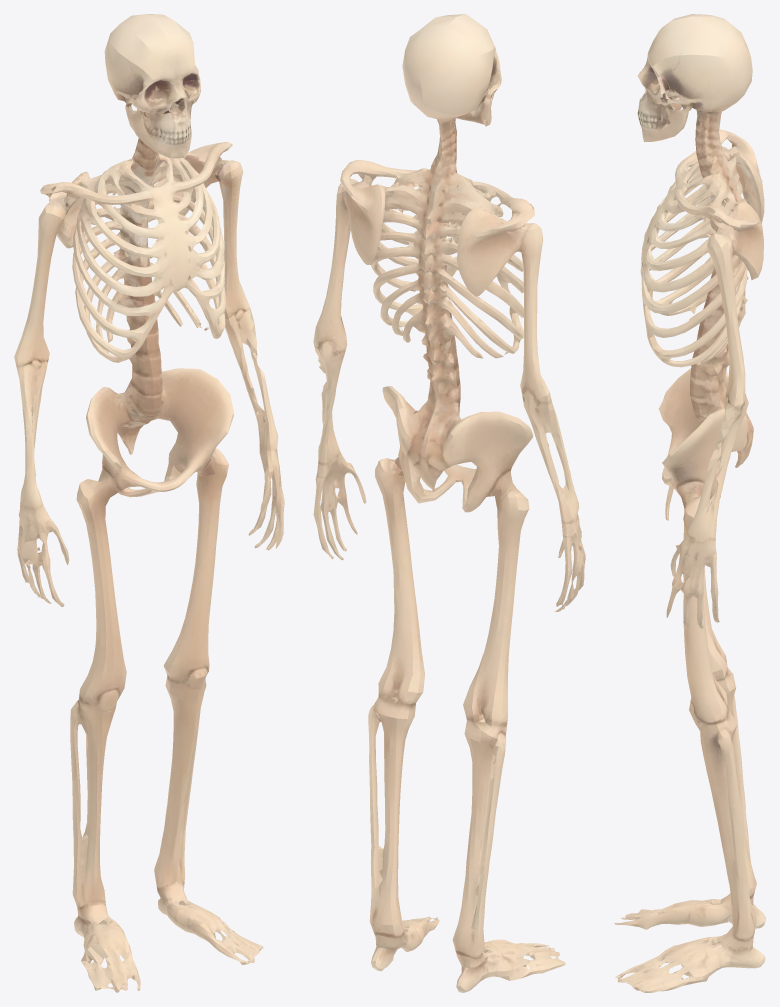
Rendered from skeleton.glb.
3 views of the same model, side by side, from view 1: azimuth 30°, elevation 25°; view 2: azimuth 150°, elevation 25°; view 3: azimuth 270°, elevation 25° (orthographic).
Visible parts, largest first — view 1: Mesh0; view 2: Mesh0; view 3: Mesh0.
Boxes of the visible parts, x1=… form: Mesh0: x1=14, y1=14, x2=284, y2=992; Mesh0: x1=313, y1=14, x2=585, y2=992; Mesh0: x1=614, y1=14, x2=765, y2=992.
Size of the model in its own units: 0.5507 by 1.91 by 0.2807.
Materials: 1 (1 with a texture image).
